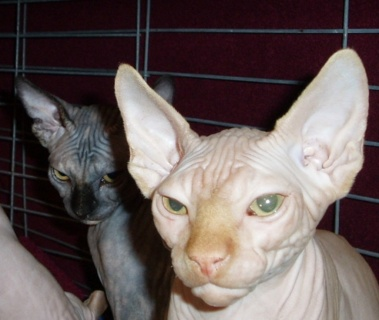Cat: (114, 48, 379, 320), (14, 74, 175, 320)
